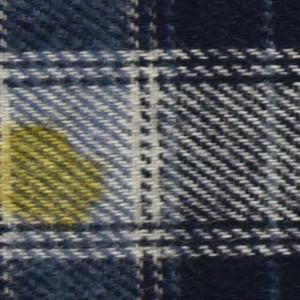Stain: (1, 121, 110, 237)
